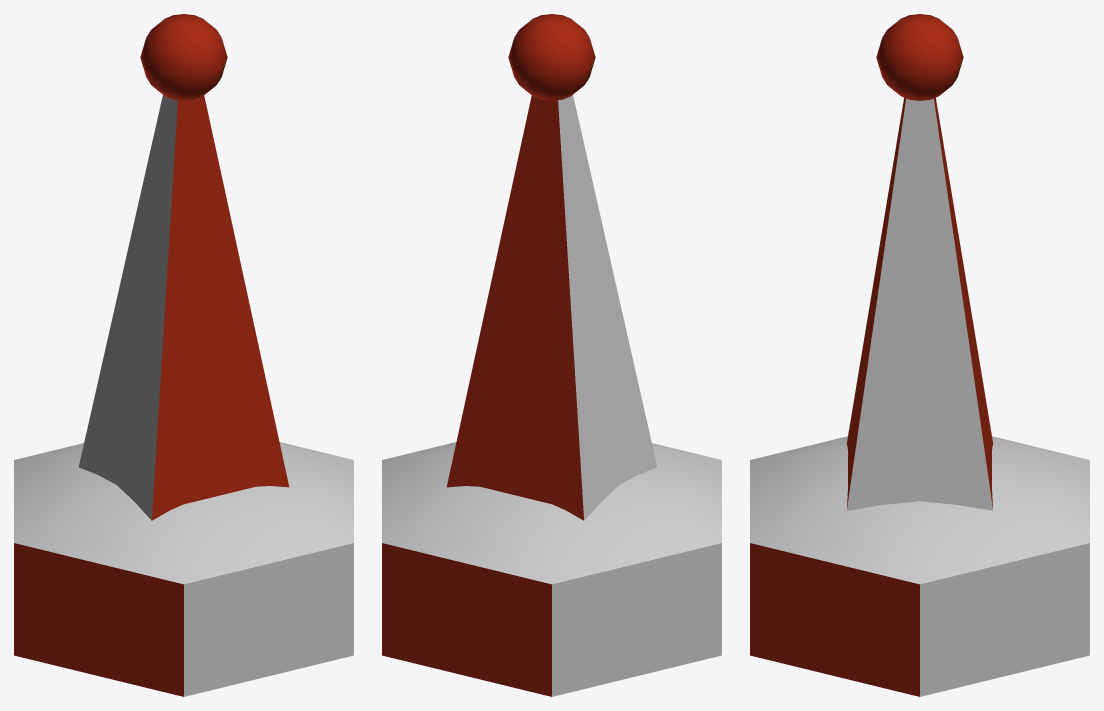
Rendered from Буёк пирамида .fbx.
The picture shows the model from 3 angles, left to right: view 1: azimuth 30°, elevation 25°; view 2: azimuth 150°, elevation 25°; view 3: azimuth 270°, elevation 25°; orthographic projection.
Visible parts, largest first — view 1: Объект_Цистерна, Объект_Куб, Объект_Сфера; view 2: Объект_Цистерна, Объект_Куб, Объект_Сфера; view 3: Объект_Цистерна, Объект_Куб, Объект_Сфера.
Part boxes in pixels (left/top/right/bottom): Объект_Цистерна: left=14, top=442, right=353, bottom=696; Объект_Куб: left=78, top=95, right=289, bottom=520; Объект_Сфера: left=140, top=14, right=227, bottom=100; Объект_Цистерна: left=382, top=442, right=721, bottom=696; Объект_Куб: left=446, top=95, right=657, bottom=520; Объект_Сфера: left=508, top=14, right=595, bottom=100; Объект_Цистерна: left=750, top=436, right=1089, bottom=696; Объект_Куб: left=846, top=97, right=993, bottom=510; Объект_Сфера: left=876, top=14, right=963, bottom=100.
Bounding box in the file's own units: 274 × 489 × 237.
